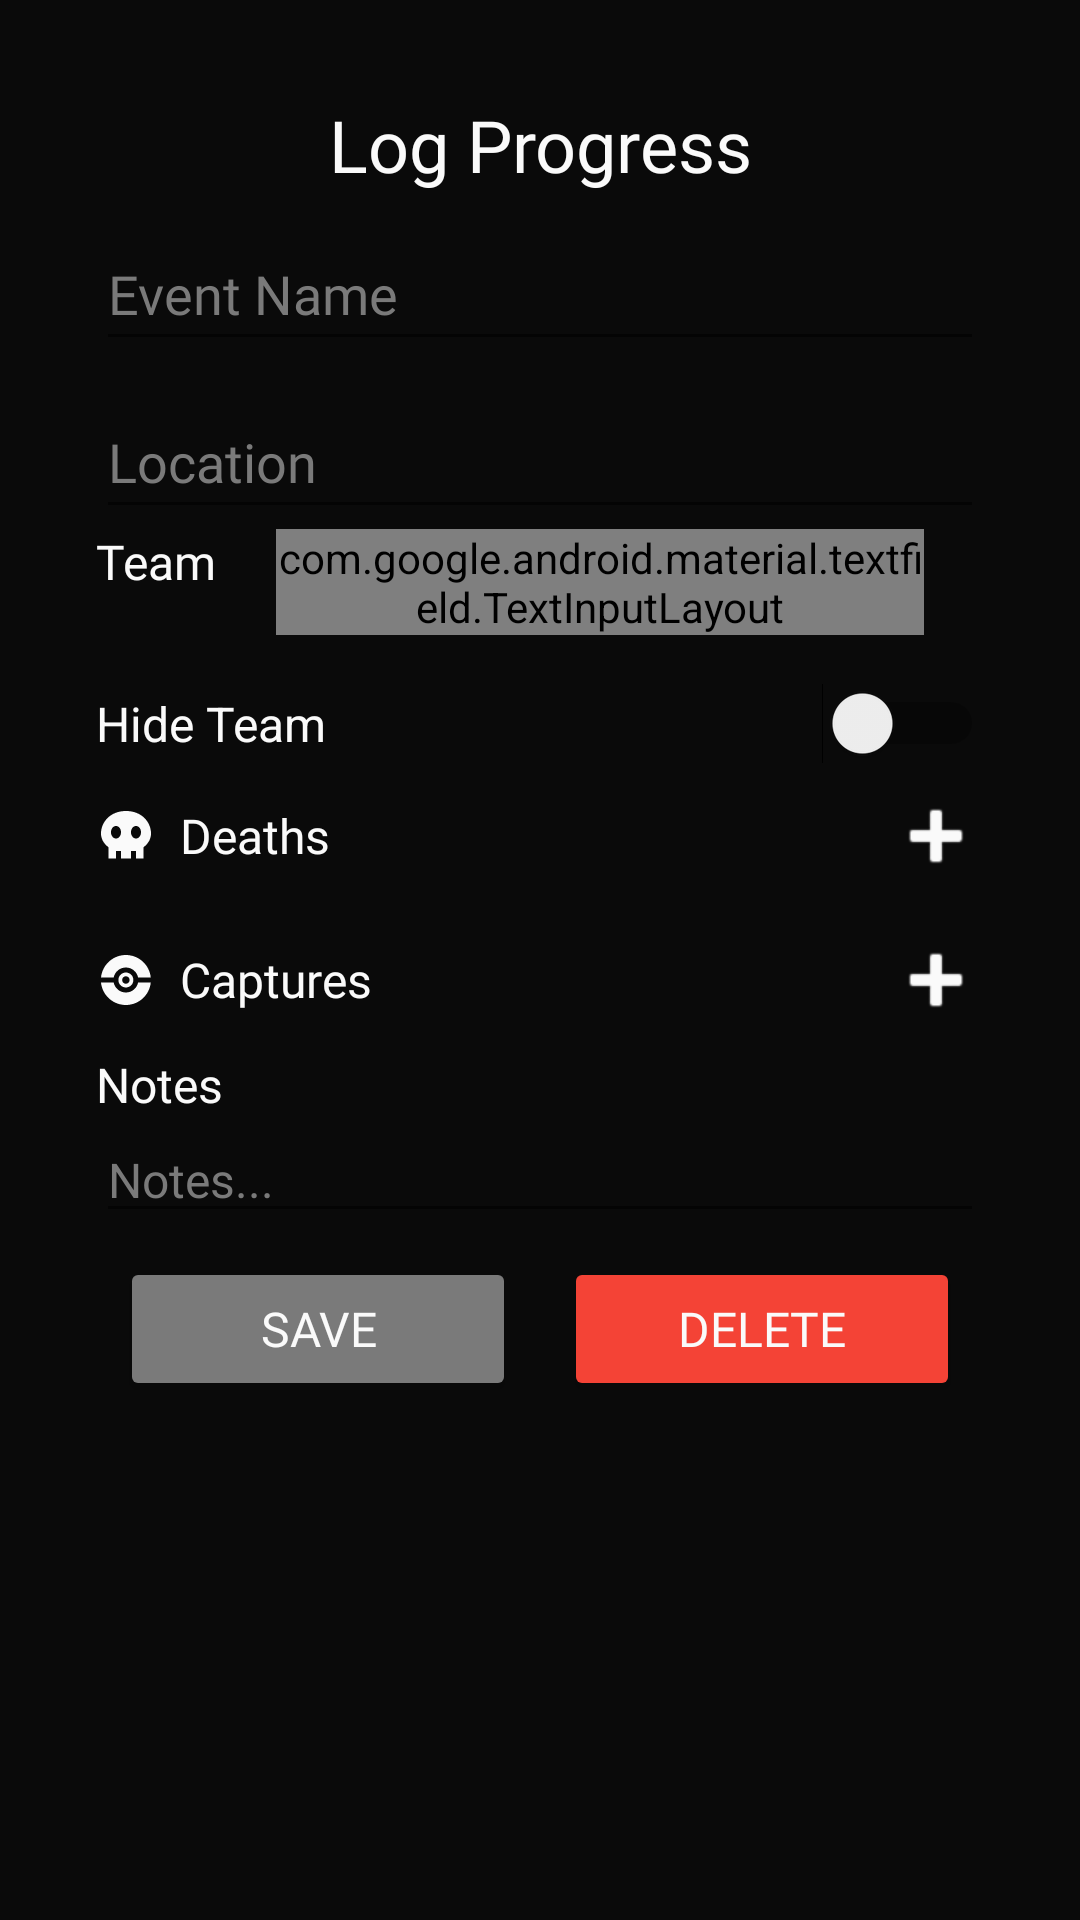

Icon bounding boxes for this 1080 × 1920 phone screenshot, format (x1, y1, x2, y2):
add: (909, 809, 963, 863), (909, 953, 963, 1007)
